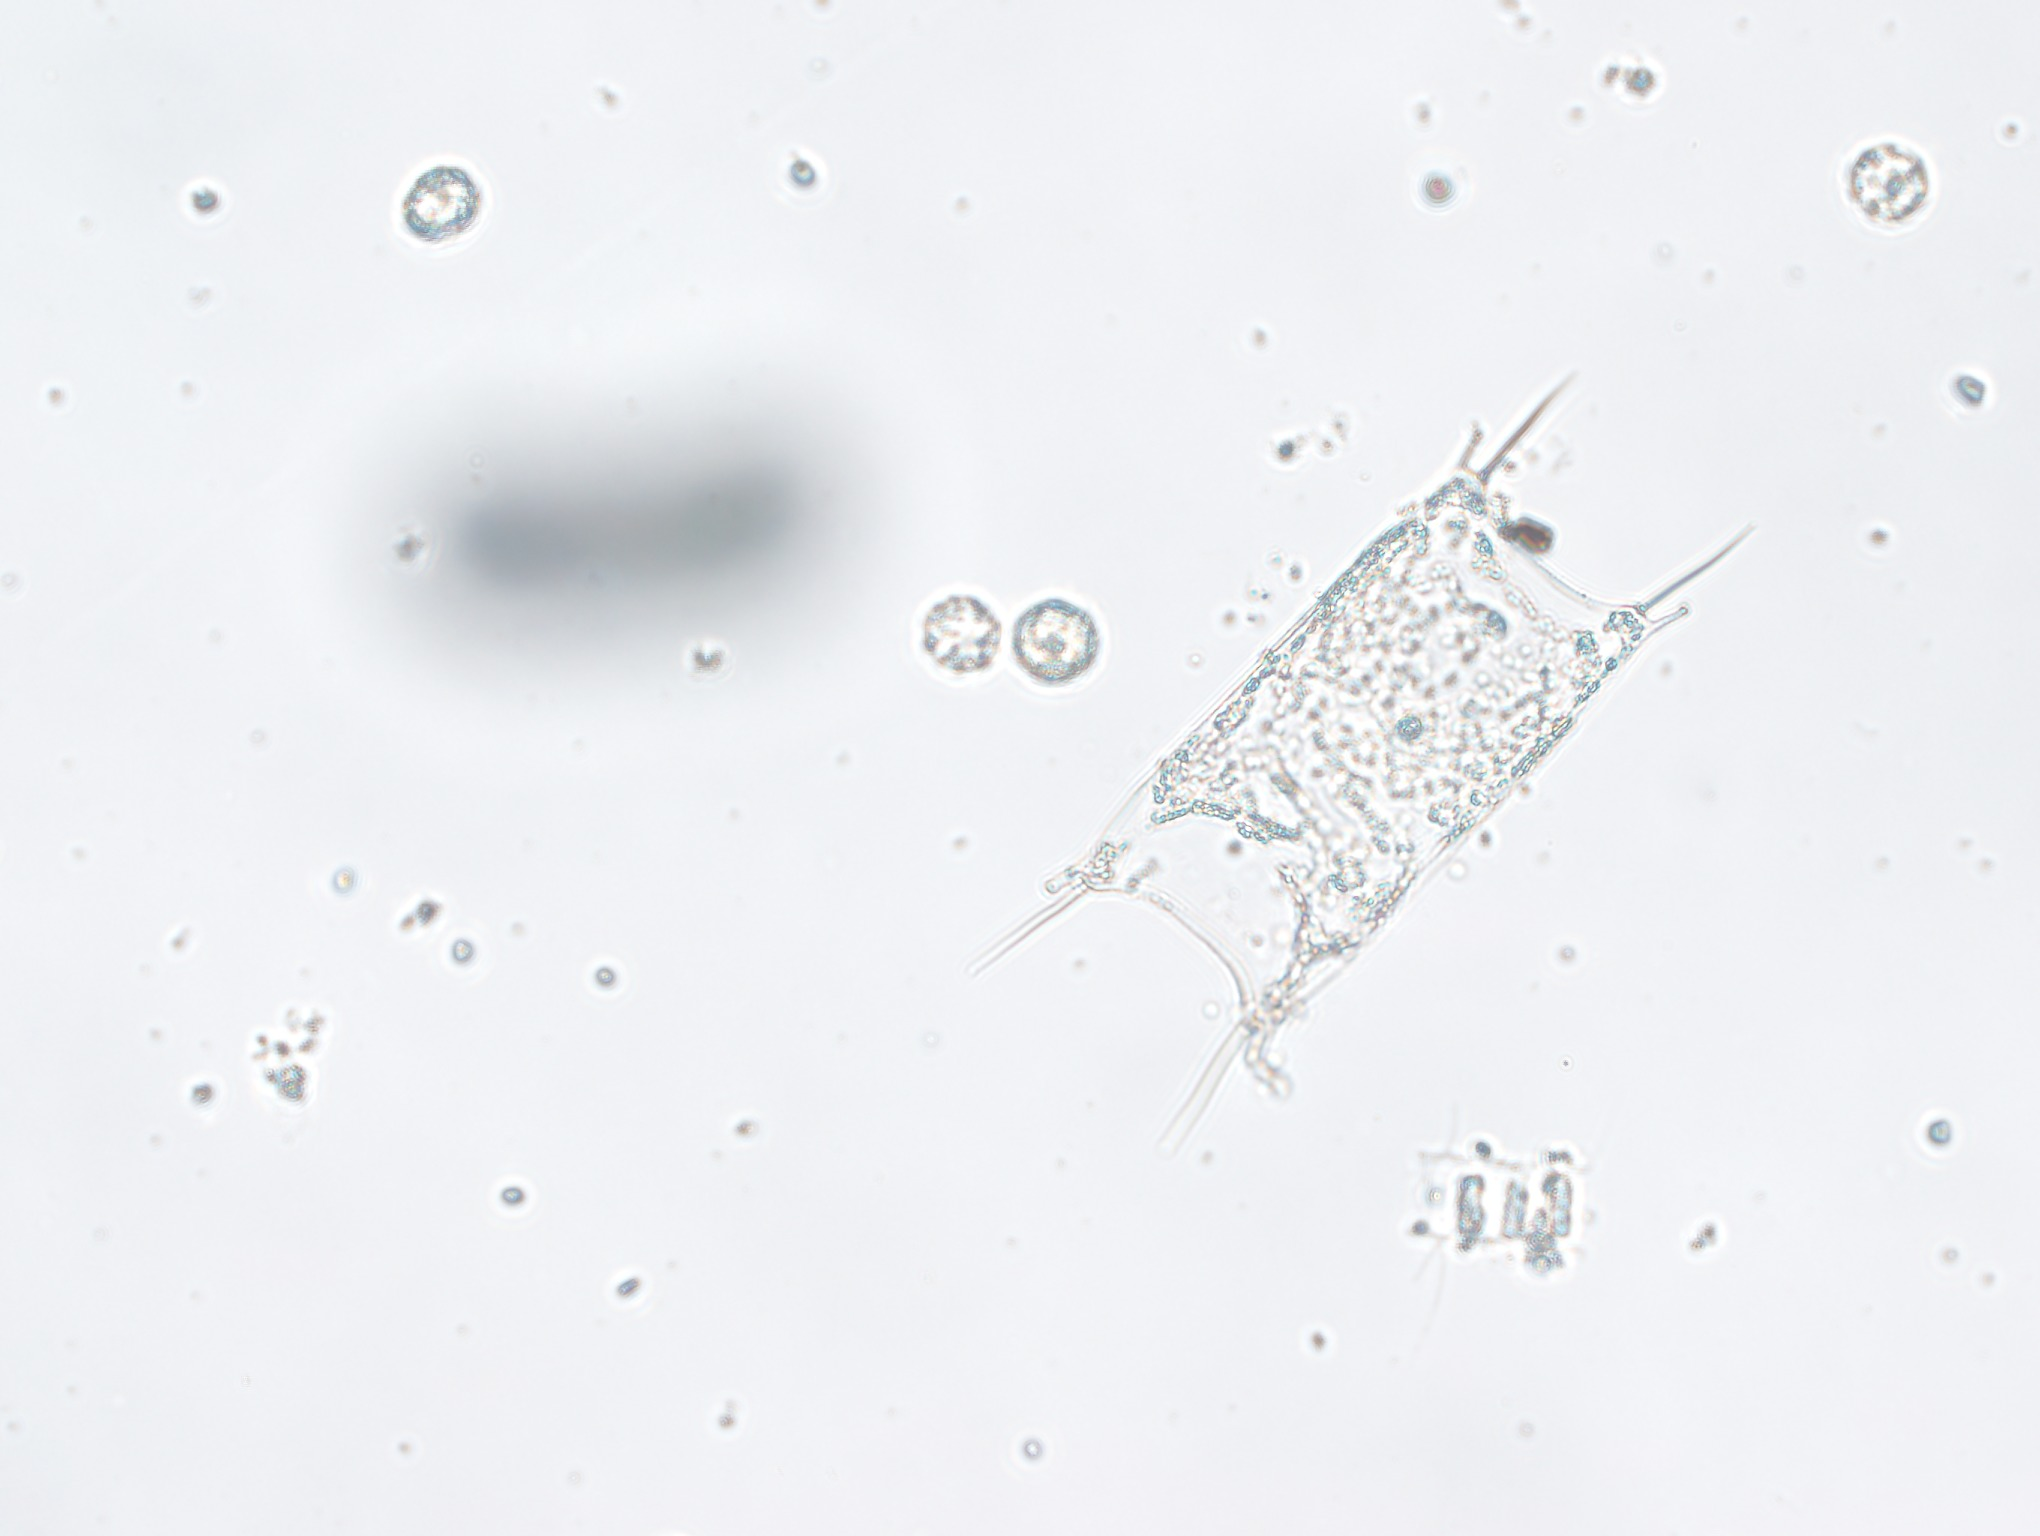biddulphia: (955, 358, 1755, 1137)
